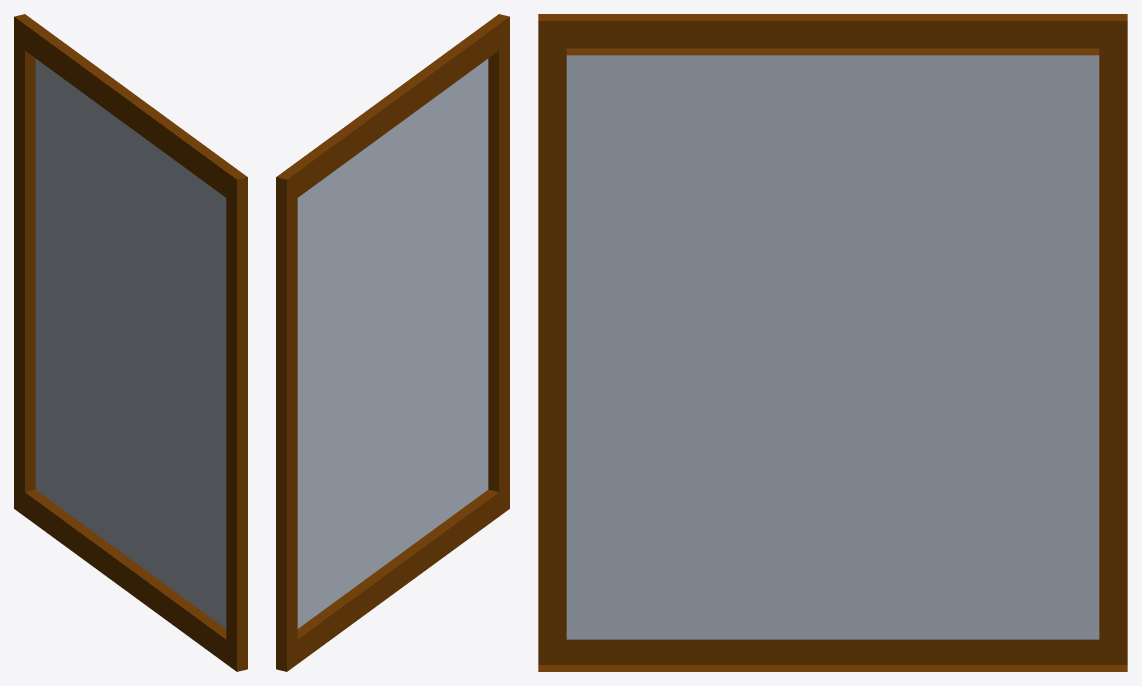
File: Espelho Pequeno.fbx
3 views of the same model, side by side, from view 1: azimuth 30°, elevation 25°; view 2: azimuth 150°, elevation 25°; view 3: azimuth 270°, elevation 25° (orthographic). The views are drawn at different scales.
Parts seen in each view (by area): view 1: Plane.010; view 2: Plane.010; view 3: Plane.010.
Boxes of the visible parts, <box> form: Plane.010: <box>14,14,247,671</box>; Plane.010: <box>276,14,509,671</box>; Plane.010: <box>538,14,1127,671</box>.
Bounding box in the file's own units: 2.15 × 93.5 × 76.73.
